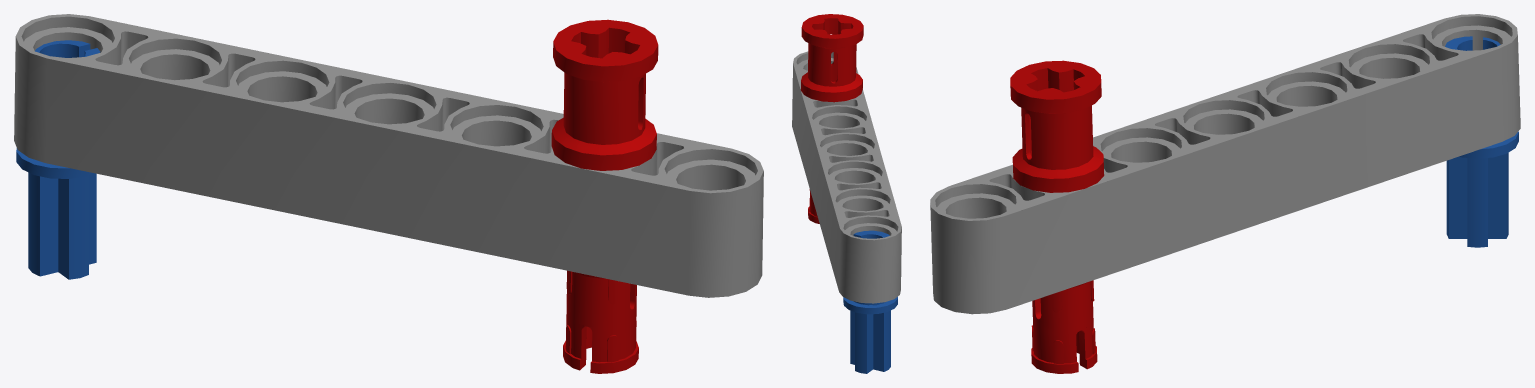
Rendered from Right_core_holder.obj.
3 views of the same model, side by side, from view 1: azimuth 30°, elevation 25°; view 2: azimuth 150°, elevation 25°; view 3: azimuth 270°, elevation 25° (orthographic). The views are drawn at different scales.
Parts seen in each view (by area): view 1: Piece001, Piece000, Piece002; view 2: Piece001, Piece000, Piece002; view 3: Piece001, Piece000, Piece002.
Part boxes in pixels (x1,y1,x2,y2): Piece001: (14,14,763,297); Piece000: (551,19,658,373); Piece002: (16,40,100,279); Piece001: (792,51,901,303); Piece000: (800,14,863,223); Piece002: (843,230,897,373); Piece001: (930,14,1520,314); Piece000: (1010,60,1104,373); Piece002: (1445,36,1518,247).
Bounding box in the file's own units: 89.18 × 61.34 × 115.
